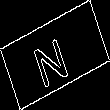N_NW: (33, 24, 77, 86)
